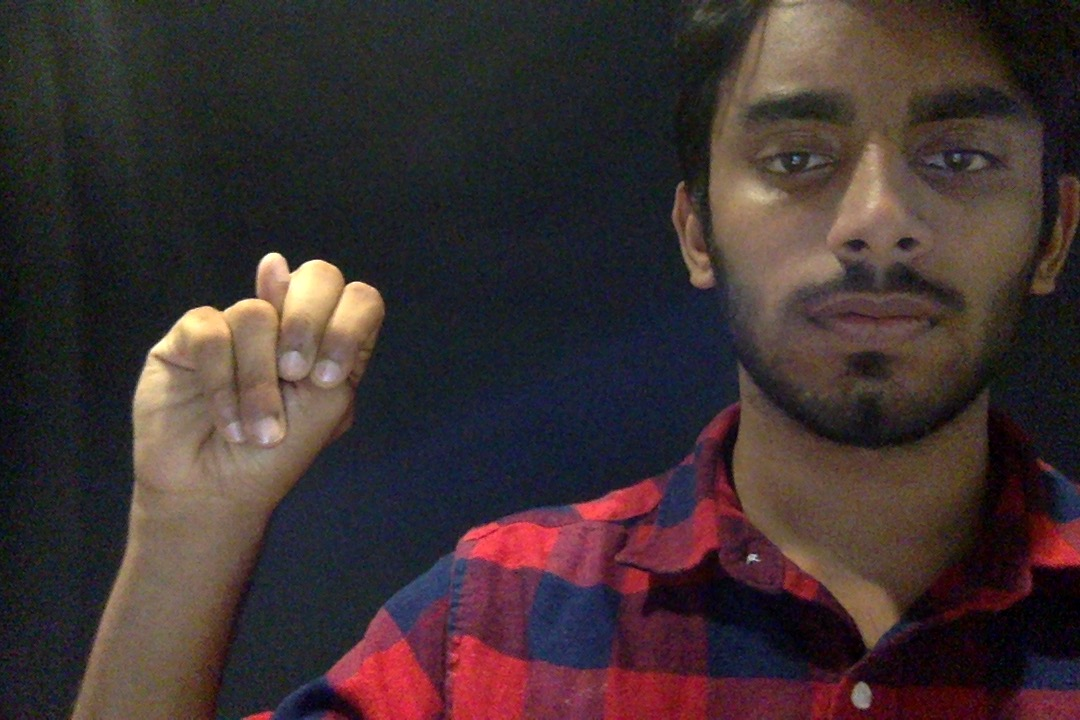n: (105, 228, 394, 573)
